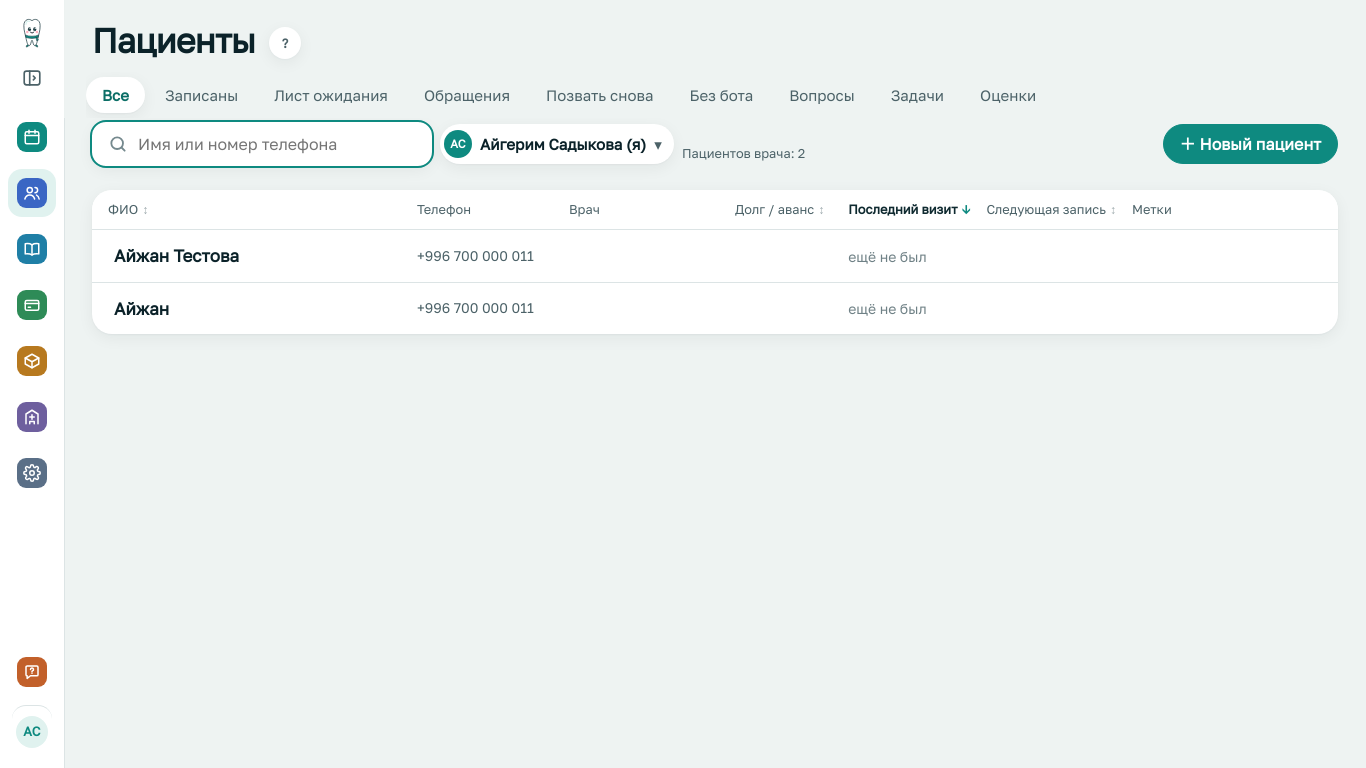
Scenario: «Похожие карточки: 1» → предпросмотр → «Объединить»: основную можно выбрать, после — основная карточка
Click the button "Айжан Тестова": (177, 256) [114,243,239,269]
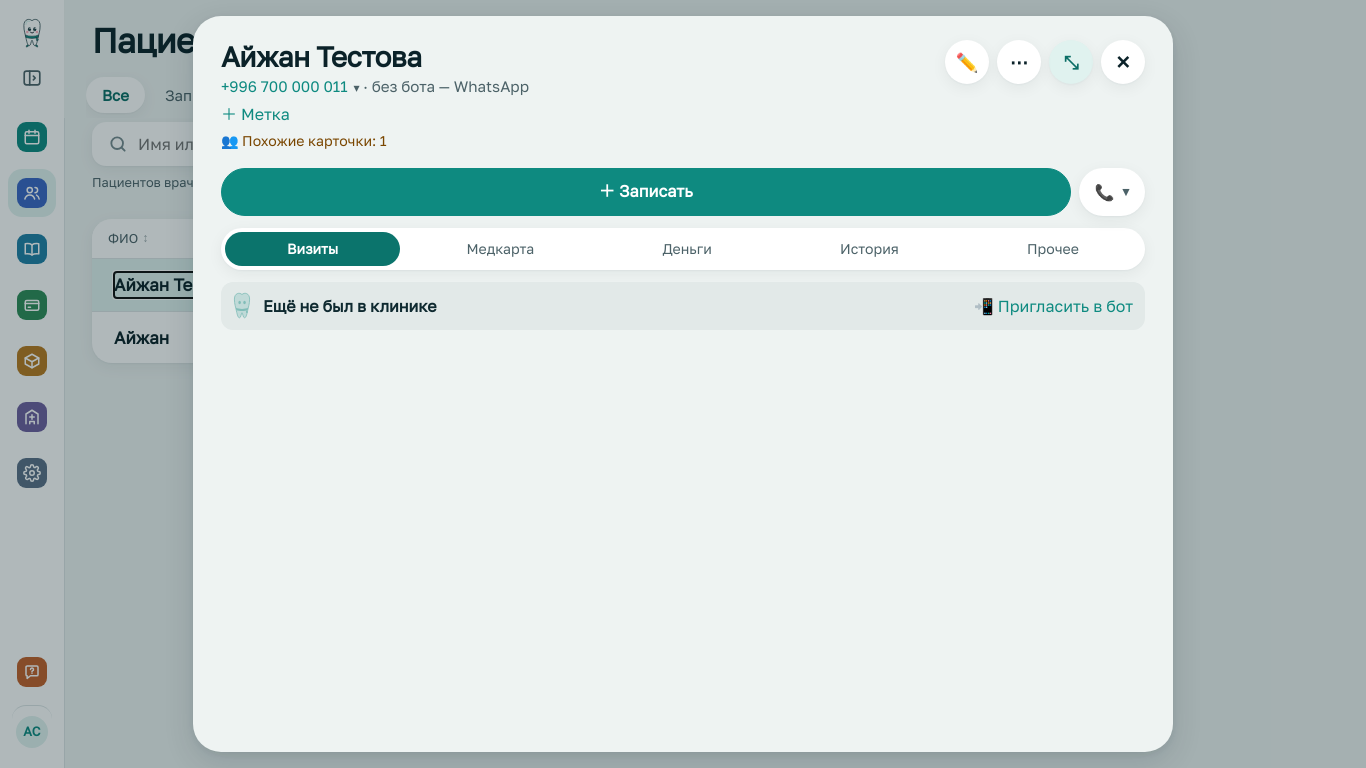
Click the button "👥 Похожие карточки: 1": (304, 140) [221,130,387,151]
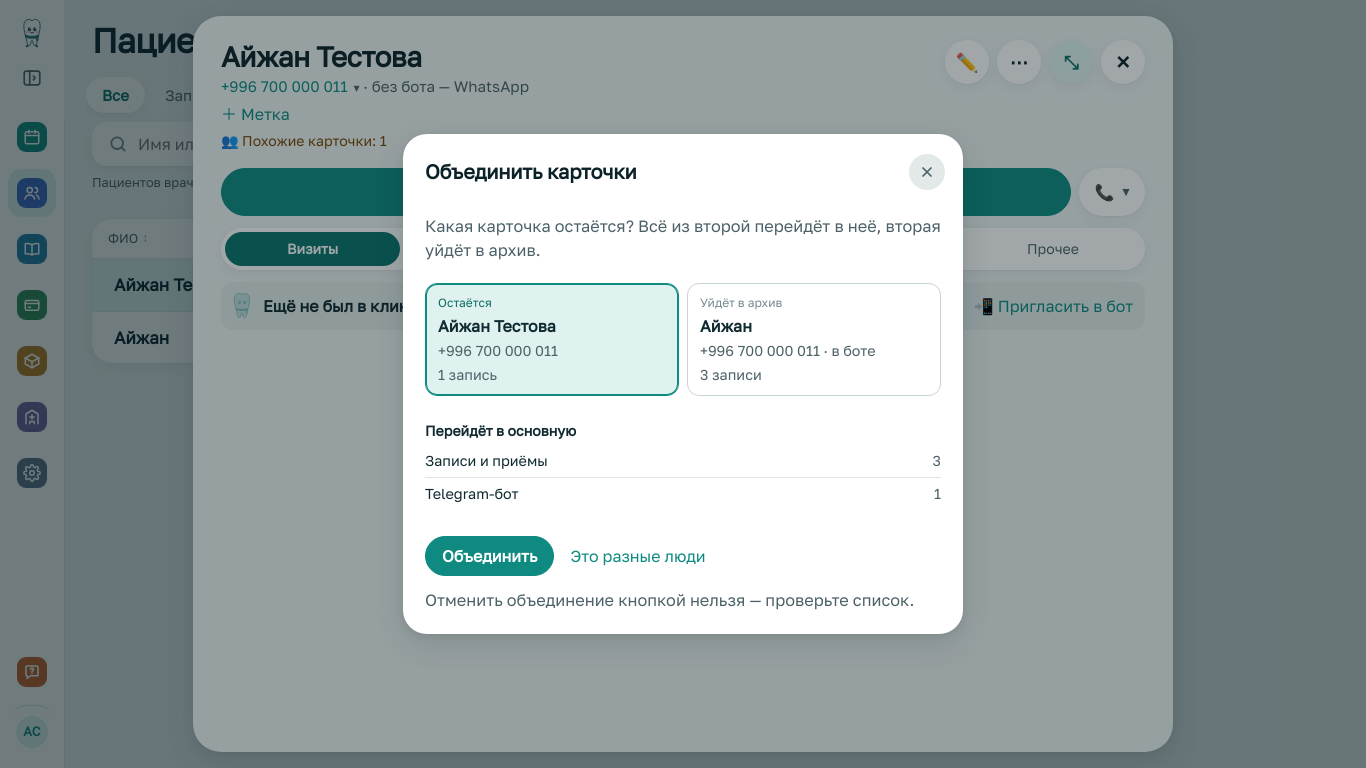
Expected: the text "Telegram-бот" is shown, [425,483,518,504]
Оставить карточку с ботом и тремя записями
Click the radio button labelled "Уйдёт в архив Айжан +996 700 000 011 · в боте 3 записи": (814, 340) [687,283,941,396]
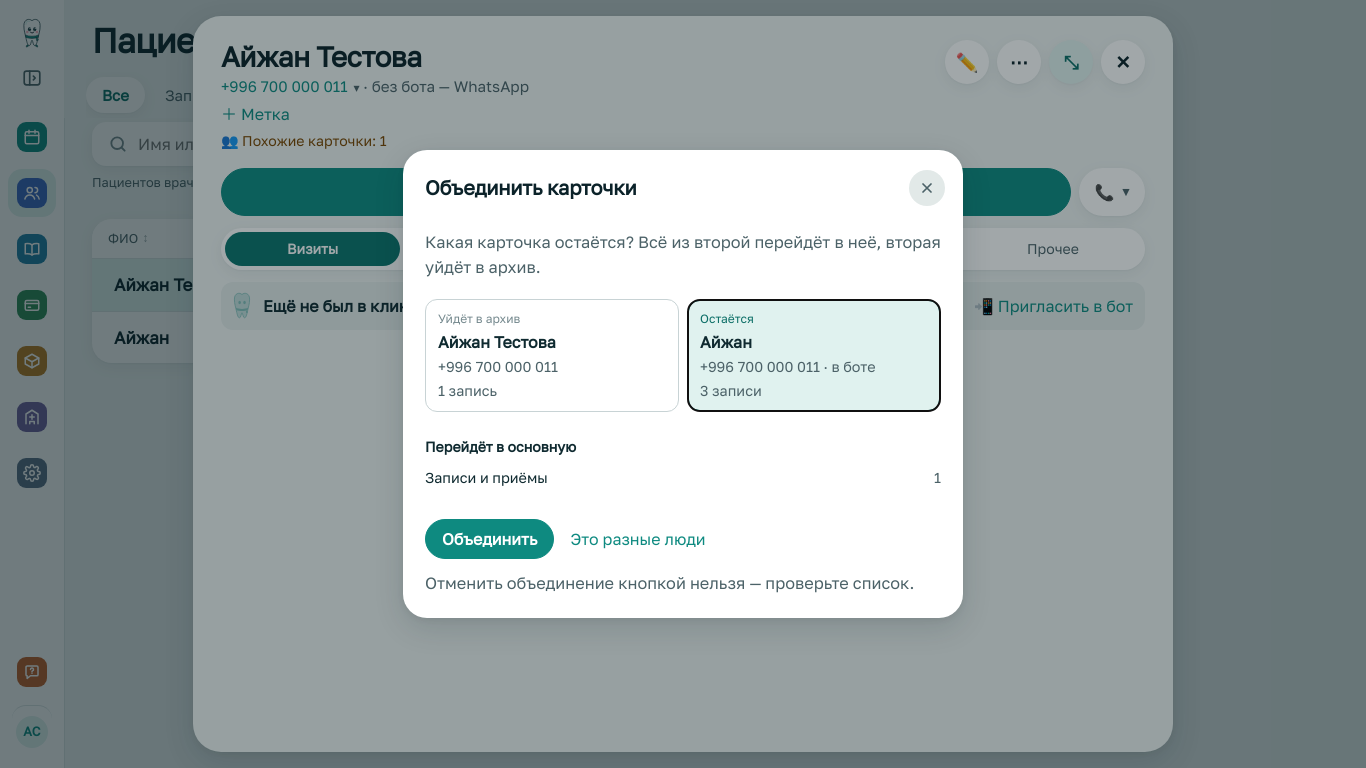
Expected: the text "Записи и приёмы" is shown, [425,467,548,488]
Click the button "Объединить": (490, 539) [425,519,554,559]
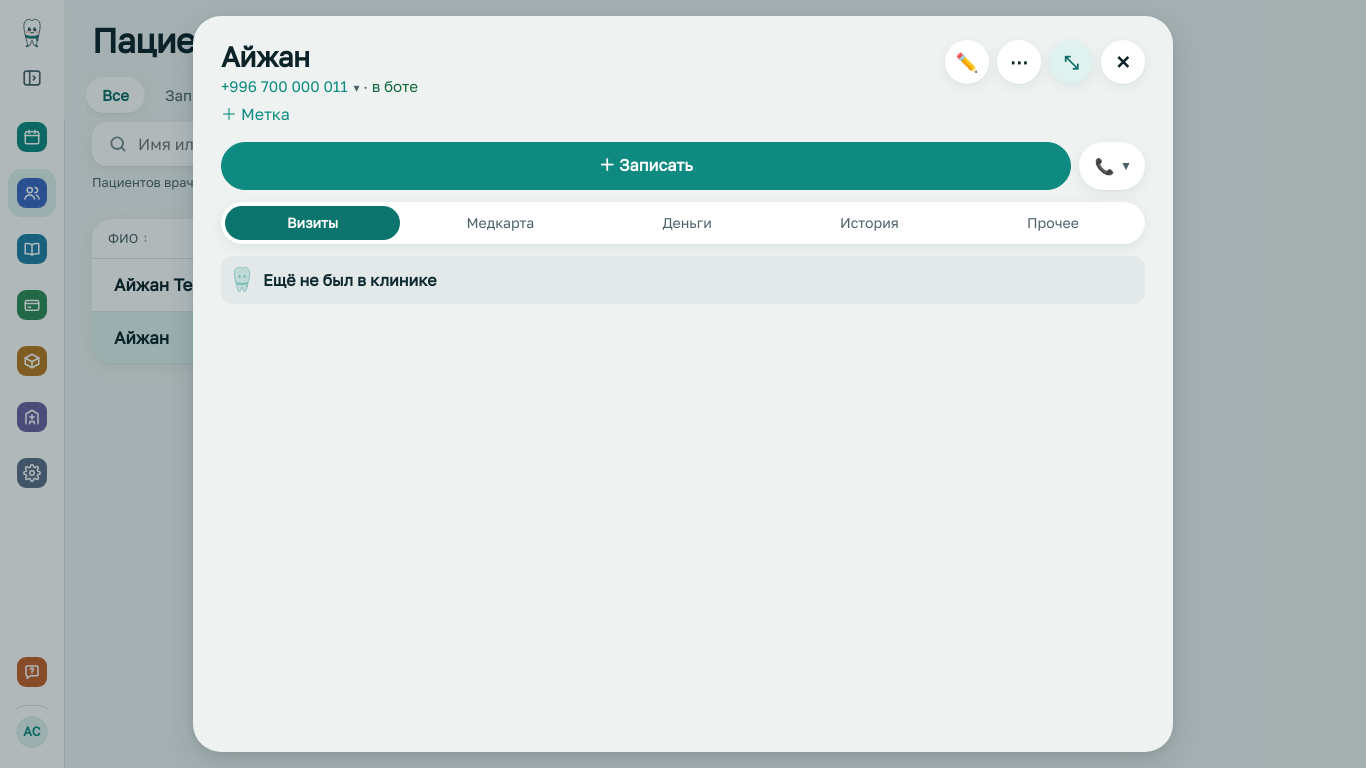
Expected: the element named "Карточка пациента" shows "в боте", [372,77,418,95]
